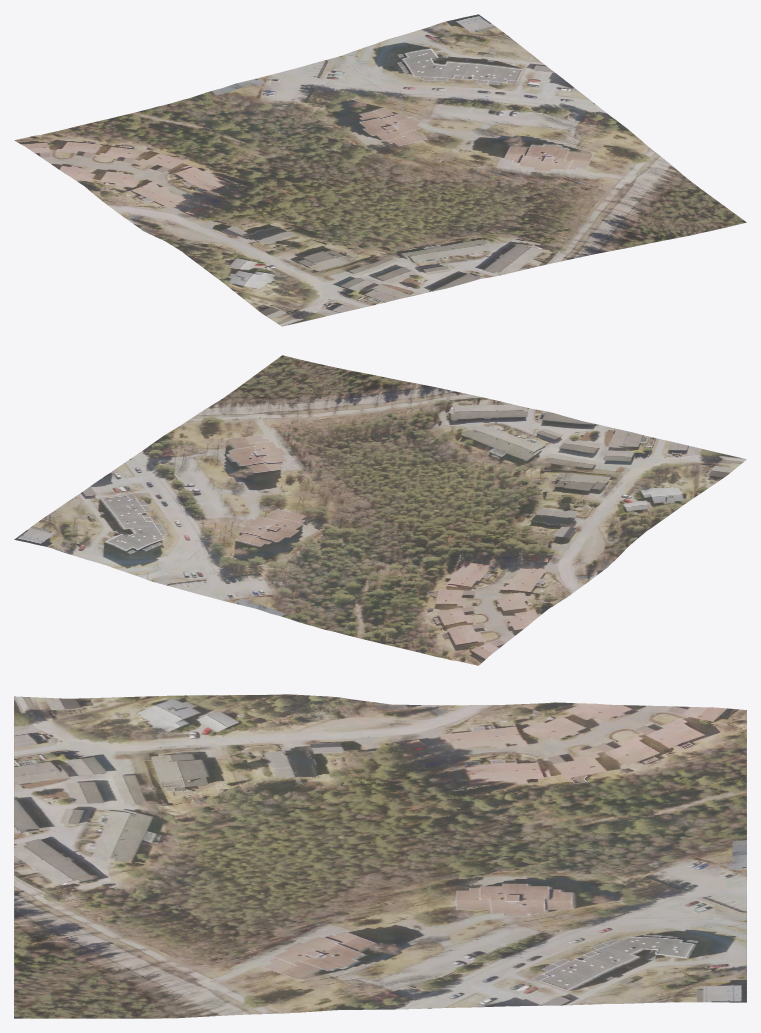
File: CM_Terrain_24491073_6817132.fbx
3 renders of one model, top to bottom at view 1: azimuth 30°, elevation 25°; view 2: azimuth 150°, elevation 25°; view 3: azimuth 270°, elevation 25°, orthographic. The views are drawn at different scales.
Visible parts, largest first — view 1: CM_Terrain_24491073_6817132_LOD0; view 2: CM_Terrain_24491073_6817132_LOD0; view 3: CM_Terrain_24491073_6817132_LOD0.
Boxes of the visible parts, x1,y1,x2,y2 form: CM_Terrain_24491073_6817132_LOD0: (14,14,746,326); CM_Terrain_24491073_6817132_LOD0: (14,355,746,665); CM_Terrain_24491073_6817132_LOD0: (14,694,746,1018).
Size of what is drawn, in the model's own units: 205 by 6.4 by 205.
